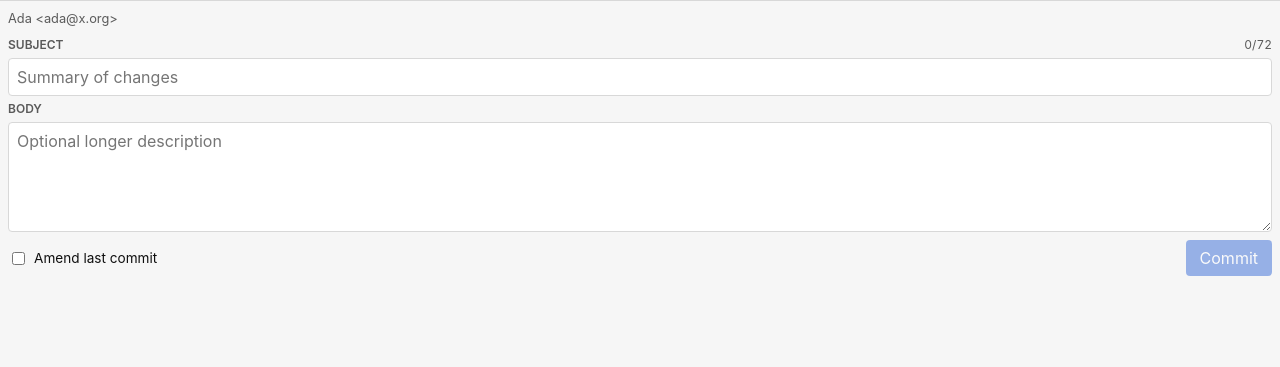
Test: CommitBox › shows a multi-line failure with Dismiss and keeps the draft
Expected: the text "Ada <ada@x.org>" is shown, x1=8 y1=9 x2=118 y2=28
In the field labelled "Subject": (640, 77) x1=8 y1=58 x2=1272 y2=96, type "S"
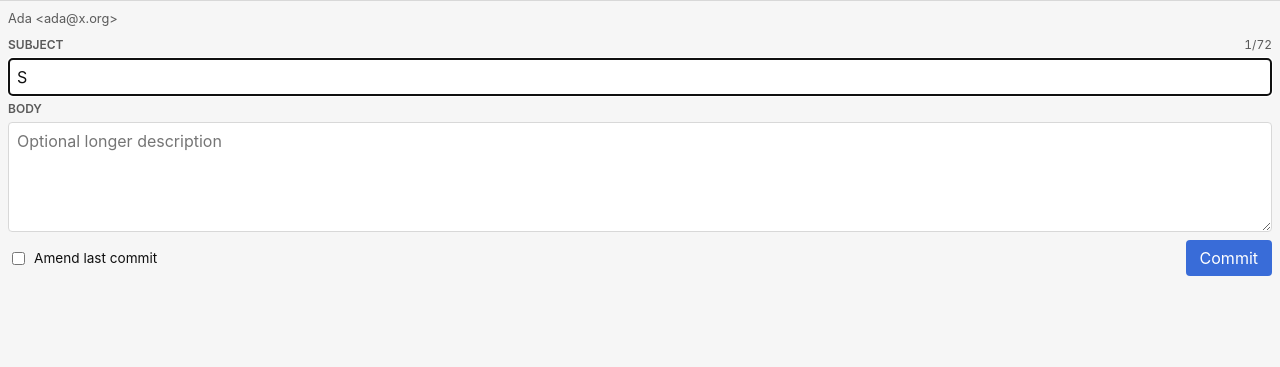
Result: the button "Commit" is enabled
Click the button "Commit": (1229, 258) x1=1186 y1=240 x2=1272 y2=276
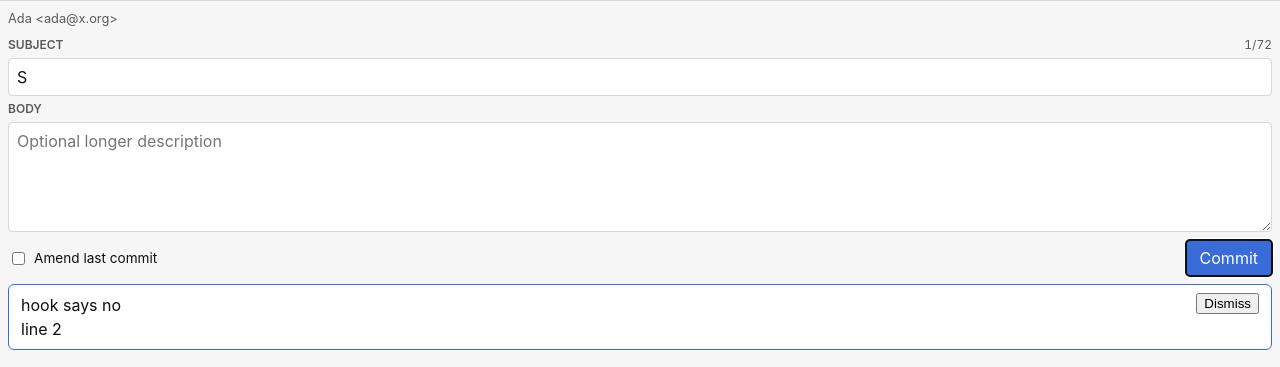
Result: the message shows "hook says no" at x1=21 y1=295 x2=121 y2=339
Result: the message shows "line 2" at x1=21 y1=295 x2=121 y2=339
Click the button "Dismiss": (1228, 304) x1=1196 y1=293 x2=1259 y2=314
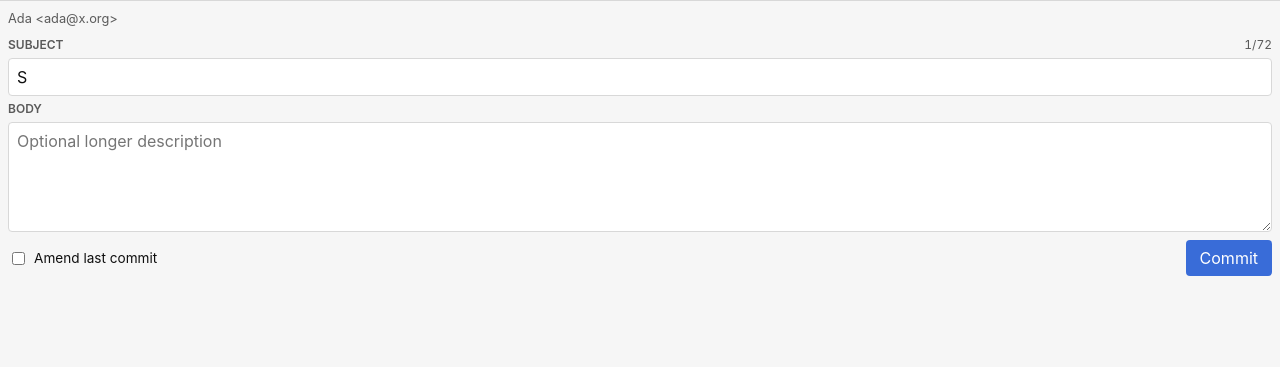
Result: the message "hook says no line 2 Dismiss" is gone
